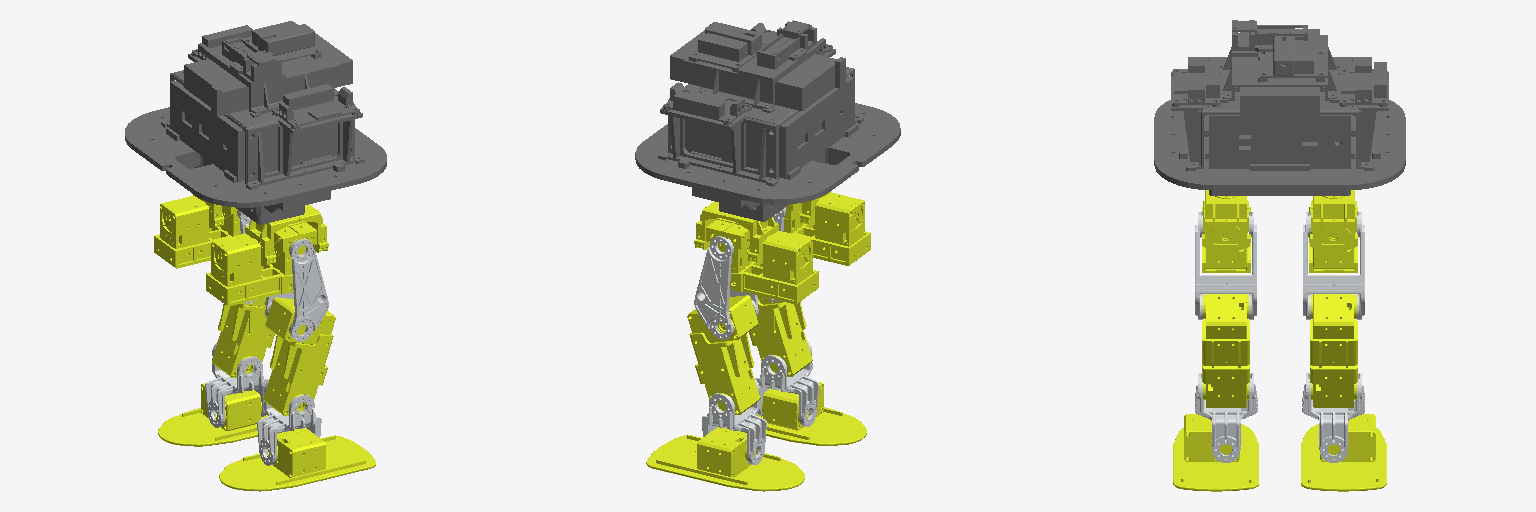
URDF robot description (exhx5_w_b_16):
<?xml version="1.0" encoding="utf-8"?>
<!-- This URDF was automatically created by SolidWorks to URDF Exporter! Originally created by [author] ([email redacted]) 
     Commit Version: 1.5.1-0-g916b5db  Build Version: 1.5.7152.31018
     For more information, please see http://wiki.ros.org/sw_urdf_exporter -->
<robot
  name="exhx5_w_b_16">
  <link
    name="body_link">
    <inertial>
      <origin
        xyz="0.00043545 0.00025536 0.10071"
        rpy="0 0 0" />
      <mass
        value="1.8238" />
      <inertia
        ixx="0.0025905"
        ixy="-5.6852E-06"
        ixz="-1.3106E-05"
        iyy="0.0024595"
        iyz="-1.261E-06"
        izz="0.0046407" />
    </inertial>
    <visual>
      <origin
        xyz="0 0 0"
        rpy="0 0 0" />
      <geometry>
        <mesh
          filename="../meshes/body_link.STL" />
      </geometry>
      <material
        name="">
        <color
          rgba="0.49804 0.49804 0.49804 1" />
      </material>
    </visual>
    <collision>
      <origin
        xyz="0 0 0"
        rpy="0 0 0" />
      <geometry>
        <mesh
          filename="../meshes/body_link.STL" />
      </geometry>
    </collision>
  </link>

  <link
    name="imu_link">
    <inertial>
      <origin
        xyz="-0.008387 1.336E-17 -0.0069463"
        rpy="0 0 0" />
      <mass
        value="0.0062931" />
      <inertia
        ixx="3.2242E-07"
        ixy="3.3527E-22"
        ixz="-6.9193E-08"
        iyy="9.2229E-07"
        iyz="-8.0392E-22"
        izz="1.1018E-06" />
    </inertial>
    <visual>
      <origin
        xyz="0 0 0"
        rpy="0 0 0" />
      <geometry>
        <mesh
          filename="../meshes/imu_link.STL" />
      </geometry>
      <material
        name="">
        <color
          rgba="0.79216 0.81961 0.93333 1" />
      </material>
    </visual>
    <collision>
      <origin
        xyz="0 0 0"
        rpy="0 0 0" />
      <geometry>
        <mesh
          filename="../meshes/imu_link.STL" />
      </geometry>
    </collision>
  </link>
  <joint
    name="imu"
    type="fixed">
    <origin
      xyz="0 0 0.0492"
      rpy="0 0 0" />
    <parent
      link="body_link" />
    <child
      link="imu_link" />
    <axis
      xyz="0 0 0" />
    <limit
      lower="-3.14"
      upper="3.14"
      effort="4"
      velocity="4" />
  </joint>
  <link
    name="l_hip_g_link">
    <inertial>
      <origin
        xyz="-0.0043797 -8.6604E-08 0.011813"
        rpy="0 0 0" />
      <mass
        value="0.061008" />
      <inertia
        ixx="1.167E-05"
        ixy="7.1767E-11"
        ixz="9.1442E-09"
        iyy="2.2342E-05"
        iyz="2.5177E-11"
        izz="2.4892E-05" />
    </inertial>
    <visual>
      <origin
        xyz="0 0 0"
        rpy="0 0 0" />
      <geometry>
        <mesh
          filename="../meshes/l_hip_g_link.STL" />
      </geometry>
      <material
        name="">
        <color
          rgba="0.9451 1 0.18431 1" />
      </material>
    </visual>
    <collision>
      <origin
        xyz="0 0 0"
        rpy="0 0 0" />
      <geometry>
        <mesh
          filename="../meshes/l_hip_g_link.STL" />
      </geometry>
    </collision>
  </link>
  <joint
    name="l_hip_g"
    type="fixed">
    <origin
      xyz=".003 0.045 0"
      rpy="0 0 0" />
    <parent
      link="body_link" />
    <child
      link="l_hip_g_link" />
    <axis
      xyz="0 0 0" />
  </joint>
  <link
    name="l_hip_roll_link">
    <inertial>
      <origin
        xyz="0.013831 0.00033457 0.025453"
        rpy="0 0 0" />
      <mass
        value="0.2969" />
      <inertia
        ixx="7.8136E-05"
        ixy="7.265E-07"
        ixz="-6.9809E-08"
        iyy="9.2183E-05"
        iyz="-5.6881E-11"
        izz="7.1034E-05" />
    </inertial>
    <visual>
      <origin
        xyz="0 0 0"
        rpy="0 0 0" />
      <geometry>
        <mesh
          filename="../meshes/l_hip_roll_link.STL" />
      </geometry>
      <material
        name="">
        <color
          rgba="0.9451 1 0.18431 1" />
      </material>
    </visual>
    <collision>
      <origin
        xyz="0 0 0"
        rpy="0 0 0" />
      <geometry>
        <mesh
          filename="../meshes/l_hip_roll_link.STL" />
      </geometry>
    </collision>
  </link>
  <joint
    name="l_hip_roll"
    type="revolute">
    <origin
      xyz="0 0 0"
      rpy="3.1416 1.5708 0" />
    <parent
      link="l_hip_g_link" />
    <child
      link="l_hip_roll_link" />
    <axis
      xyz="0 0 1" />
    <limit
      lower="-3.14"
      upper="3.14"
      effort="4"
      velocity="4" />
  </joint>
  <link
    name="l_hip_pitch_link">
    <inertial>
      <origin
        xyz="0.041225 -0.007321 -5.0713E-08"
        rpy="0 0 0" />
      <mass
        value="0.051592" />
      <inertia
        ixx="2.7959E-05"
        ixy="2.0752E-06"
        ixz="-8.0934E-11"
        iyy="4.8156E-05"
        iyz="3.6317E-11"
        izz="2.9604E-05" />
    </inertial>
    <visual>
      <origin
        xyz="0 0 0"
        rpy="0 0 0" />
      <geometry>
        <mesh
          filename="../meshes/l_hip_pitch_link.STL" />
      </geometry>
      <material
        name="">
        <color
          rgba="0.89804 0.91765 0.92941 1" />
      </material>
    </visual>
    <collision>
      <origin
        xyz="0 0 0"
        rpy="0 0 0" />
      <geometry>
        <mesh
          filename="../meshes/l_hip_pitch_link.STL" />
      </geometry>
    </collision>
  </link>
  <joint
    name="l_hip_pitch"
    type="revolute">
    <origin
      xyz="0 0 0"
      rpy="1.5708 0 0" />
    <parent
      link="l_hip_roll_link" />
    <child
      link="l_hip_pitch_link" />
    <axis
      xyz="0 0 1" />
    <limit
      lower="-3.14"
      upper="3.14"
      effort="4"
      velocity="4" />
  </joint>
  <link
    name="l_knee_link">
    <inertial>
      <origin
        xyz="0.033756 -0.0084189 -6.6115E-09"
        rpy="0 0 0" />
      <mass
        value="0.28878" />
      <inertia
        ixx="6.6724E-05"
        ixy="7.5004E-07"
        ixz="-8.4578E-07"
        iyy="6.5699E-05"
        iyz="4.1085E-07"
        izz="7.0381E-05" />
    </inertial>
    <visual>
      <origin
        xyz="0 0 0"
        rpy="0 0 0" />
      <geometry>
        <mesh
          filename="../meshes/l_knee_link.STL" />
      </geometry>
      <material
        name="">
        <color
          rgba="0.9451 1 0.18431 1" />
      </material>
    </visual>
    <collision>
      <origin
        xyz="0 0 0"
        rpy="0 0 0" />
      <geometry>
        <mesh
          filename="../meshes/l_knee_link.STL" />
      </geometry>
    </collision>
  </link>
  <joint
    name="l_knee"
    type="revolute">
    <origin
      xyz="0.075954 0 0"
      rpy="0 0 0" />
    <parent
      link="l_hip_pitch_link" />
    <child
      link="l_knee_link" />
    <axis
      xyz="0 0 1" />
    <limit
      lower="-3.14"
      upper="3.14"
      effort="4"
      velocity="4" />
  </joint>
  <link
    name="l_ank_pitch_link">
    <inertial>
      <origin
        xyz="0.022786 -7.3909E-09 -7.1981E-06"
        rpy="0 0 0" />
      <mass
        value="0.044772" />
      <inertia
        ixx="1.777E-05"
        ixy="8.555E-14"
        ixz="-3.3713E-09"
        iyy="1.7119E-05"
        iyz="1.7593E-11"
        izz="1.8661E-05" />
    </inertial>
    <visual>
      <origin
        xyz="0 0 0"
        rpy="0 0 0" />
      <geometry>
        <mesh
          filename="../meshes/l_ank_pitch_link.STL" />
      </geometry>
      <material
        name="">
        <color
          rgba="0.89804 0.91765 0.92941 1" />
      </material>
    </visual>
    <collision>
      <origin
        xyz="0 0 0"
        rpy="0 0 0" />
      <geometry>
        <mesh
          filename="../meshes/l_ank_pitch_link.STL" />
      </geometry>
    </collision>
  </link>
  <joint
    name="l_ank_pitch"
    type="revolute">
    <origin
      xyz="0.074602 0 0"
      rpy="3.1416 0 0" />
    <parent
      link="l_knee_link" />
    <child
      link="l_ank_pitch_link" />
    <axis
      xyz="0 0 1" />
    <limit
      lower="-3.14"
      upper="3.14"
      effort="4"
      velocity="4" />
  </joint>
  <link
    name="l_ank_roll_link">
    <inertial>
      <origin
        xyz="0.0047069 0.010728 0.0015299"
        rpy="0 0 0" />
      <mass
        value="0.16774" />
      <inertia
        ixx="0.00012039"
        ixy="-3.7428E-09"
        ixz="4.4069E-08"
        iyy="8.7735E-05"
        iyz="7.0469E-07"
        izz="4.7866E-05" />
    </inertial>
    <visual>
      <origin
        xyz="0 0 0"
        rpy="0 0 0" />
      <geometry>
        <mesh
          filename="../meshes/l_ank_roll_link.STL" />
      </geometry>
      <material
        name="">
        <color
          rgba="0.9451 1 0.18431 1" />
      </material>
    </visual>
    <collision>
      <origin
        xyz="0 0 0"
        rpy="0 0 0" />
      <geometry>
        <mesh
          filename="../meshes/l_ank_roll_link.STL" />
      </geometry>
    </collision>
  </link>
  <joint
    name="l_ank_roll"
    type="revolute">
    <origin
      xyz="0.0465 0 0"
      rpy="-1.5708 0 0" />
    <parent
      link="l_ank_pitch_link" />
    <child
      link="l_ank_roll_link" />
    <axis
      xyz="0 0 1" />
    <limit
      lower="-3.14"
      upper="3.14"
      effort="4"
      velocity="4" />
  </joint>
  <link
    name="r_hip_g_link">
    <inertial>
      <origin
        xyz="-0.0043797 -8.6604E-08 0.011813"
        rpy="0 0 0" />
      <mass
        value="0.061008" />
      <inertia
        ixx="1.167E-05"
        ixy="7.1767E-11"
        ixz="9.1442E-09"
        iyy="2.2342E-05"
        iyz="2.5177E-11"
        izz="2.4892E-05" />
    </inertial>
    <visual>
      <origin
        xyz="0 0 0"
        rpy="0 0 0" />
      <geometry>
        <mesh
          filename="../meshes/r_hip_g_link.STL" />
      </geometry>
      <material
        name="">
        <color
          rgba="0.9451 1 0.18431 1" />
      </material>
    </visual>
    <collision>
      <origin
        xyz="0 0 0"
        rpy="0 0 0" />
      <geometry>
        <mesh
          filename="../meshes/r_hip_g_link.STL" />
      </geometry>
    </collision>
  </link>
  <joint
    name="r_hip_g"
    type="fixed">
    <origin
      xyz=".003 -.045 0"
      rpy="0 0 0" />
    <parent
      link="body_link" />
    <child
      link="r_hip_g_link" />
    <axis
      xyz="0 0 0" />
  </joint>
  <link
    name="r_hip_roll_link">
    <inertial>
      <origin
        xyz="0.013831 0.00033457 0.025453"
        rpy="0 0 0" />
      <mass
        value="0.2969" />
      <inertia
        ixx="7.8136E-05"
        ixy="7.265E-07"
        ixz="-6.9809E-08"
        iyy="9.2183E-05"
        iyz="-5.6881E-11"
        izz="7.1034E-05" />
    </inertial>
    <visual>
      <origin
        xyz="0 0 0"
        rpy="0 0 0" />
      <geometry>
        <mesh
          filename="../meshes/r_hip_roll_link.STL" />
      </geometry>
      <material
        name="">
        <color
          rgba="0.9451 1 0.18431 1" />
      </material>
    </visual>
    <collision>
      <origin
        xyz="0 0 0"
        rpy="0 0 0" />
      <geometry>
        <mesh
          filename="../meshes/r_hip_roll_link.STL" />
      </geometry>
    </collision>
  </link>
  <joint
    name="r_hip_roll"
    type="revolute">
    <origin
      xyz="0 0 0"
      rpy="3.1416 1.5708 0" />
    <parent
      link="r_hip_g_link" />
    <child
      link="r_hip_roll_link" />
    <axis
      xyz="0 0 1" />
    <limit
      lower="-3.14"
      upper="3.14"
      effort="4"
      velocity="4" />
  </joint>
  <link
    name="r_hip_pitch_link">
    <inertial>
      <origin
        xyz="0.041225 0.007321 5.0713E-08"
        rpy="0 0 0" />
      <mass
        value="0.051592" />
      <inertia
        ixx="2.7959E-05"
        ixy="-2.0752E-06"
        ixz="8.0934E-11"
        iyy="4.8156E-05"
        iyz="3.6317E-11"
        izz="2.9604E-05" />
    </inertial>
    <visual>
      <origin
        xyz="0 0 0"
        rpy="0 0 0" />
      <geometry>
        <mesh
          filename="../meshes/r_hip_pitch_link.STL" />
      </geometry>
      <material
        name="">
        <color
          rgba="0.89804 0.91765 0.92941 1" />
      </material>
    </visual>
    <collision>
      <origin
        xyz="0 0 0"
        rpy="0 0 0" />
      <geometry>
        <mesh
          filename="../meshes/r_hip_pitch_link.STL" />
      </geometry>
    </collision>
  </link>
  <joint
    name="r_hip_pitch"
    type="revolute">
    <origin
      xyz="0 0 0"
      rpy="-1.5708 0 0" />
    <parent
      link="r_hip_roll_link" />
    <child
      link="r_hip_pitch_link" />
    <axis
      xyz="0 0 1" />
    <limit
      lower="-3.14"
      upper="3.14"
      effort="4"
      velocity="4" />
  </joint>
  <link
    name="r_knee_link">
    <inertial>
      <origin
        xyz="0.033757 0.0084176 6.6115E-09"
        rpy="0 0 0" />
      <mass
        value="0.28878" />
      <inertia
        ixx="6.6724E-05"
        ixy="-7.5008E-07"
        ixz="8.458E-07"
        iyy="6.5699E-05"
        iyz="4.1081E-07"
        izz="7.0381E-05" />
    </inertial>
    <visual>
      <origin
        xyz="0 0 0"
        rpy="0 0 0" />
      <geometry>
        <mesh
          filename="../meshes/r_knee_link.STL" />
      </geometry>
      <material
        name="">
        <color
          rgba="0.9451 1 0.18431 1" />
      </material>
    </visual>
    <collision>
      <origin
        xyz="0 0 0"
        rpy="0 0 0" />
      <geometry>
        <mesh
          filename="../meshes/r_knee_link.STL" />
      </geometry>
    </collision>
  </link>
  <joint
    name="r_knee"
    type="revolute">
    <origin
      xyz="0.075954 0 0"
      rpy="0 0 0" />
    <parent
      link="r_hip_pitch_link" />
    <child
      link="r_knee_link" />
    <axis
      xyz="0 0 1" />
    <limit
      lower="-3.14"
      upper="3.14"
      effort="4"
      velocity="4" />
  </joint>
  <link
    name="r_ank_pitch_link">
    <inertial>
      <origin
        xyz="0.025786 -7.3887E-09 -7.1981E-06"
        rpy="0 0 0" />
      <mass
        value="0.044772" />
      <inertia
        ixx="1.777E-05"
        ixy="8.5434E-14"
        ixz="-3.3713E-09"
        iyy="1.7119E-05"
        iyz="1.7592E-11"
        izz="1.8661E-05" />
    </inertial>
    <visual>
      <origin
        xyz="0 0 0"
        rpy="0 0 0" />
      <geometry>
        <mesh
          filename="../meshes/r_ank_pitch_link.STL" />
      </geometry>
      <material
        name="">
        <color
          rgba="0.89804 0.91765 0.92941 1" />
      </material>
    </visual>
    <collision>
      <origin
        xyz="0 0 0"
        rpy="0 0 0" />
      <geometry>
        <mesh
          filename="../meshes/r_ank_pitch_link.STL" />
      </geometry>
    </collision>
  </link>
  <joint
    name="r_ank_pitch"
    type="revolute">
    <origin
      xyz="0.071602 0 0"
      rpy="3.1416 0 0" />
    <parent
      link="r_knee_link" />
    <child
      link="r_ank_pitch_link" />
    <axis
      xyz="0 0 1" />
    <limit
      lower="-3.14"
      upper="3.14"
      effort="4"
      velocity="4" />
  </joint>
  <link
    name="r_ank_roll_link">
    <inertial>
      <origin
        xyz="0.0077069 -0.010728 0.0015299"
        rpy="0 0 0" />
      <mass
        value="0.16774" />
      <inertia
        ixx="0.00012039"
        ixy="3.743E-09"
        ixz="4.407E-08"
        iyy="8.7735E-05"
        iyz="-7.0467E-07"
        izz="4.7866E-05" />
    </inertial>
    <visual>
      <origin
        xyz="0 0 0"
        rpy="0 0 0" />
      <geometry>
        <mesh
          filename="../meshes/r_ank_roll_link.STL" />
      </geometry>
      <material
        name="">
        <color
          rgba="0.9451 1 0.18431 1" />
      </material>
    </visual>
    <collision>
      <origin
        xyz="0 0 0"
        rpy="0 0 0" />
      <geometry>
        <mesh
          filename="../meshes/r_ank_roll_link.STL" />
      </geometry>
    </collision>
  </link>
  <joint
    name="r_ank_roll"
    type="revolute">
    <origin
      xyz="0.0465 0 0"
      rpy="1.5708 0 0" />
    <parent
      link="r_ank_pitch_link" />
    <child
      link="r_ank_roll_link" />
    <axis
      xyz="0 0 1" />
    <limit
      lower="-3.14"
      upper="3.14"
      effort="4"
      velocity="4" />
  </joint>
  <transmission name="r_hip_roll_tran">
    <type>transmission_interface/SimpleTransmission</type>
    <joint name="r_hip_roll">
      <hardwareInterface>hardware_interface/EffortJointInterface</hardwareInterface>
    </joint>
    <actuator name="r_hip_roll_motor">
      <hardwareInterface>hardware_interface/EffortJointInterface</hardwareInterface>
      <mechanicalReduction>1</mechanicalReduction>
    </actuator>
  </transmission>
  <transmission name="r_hip_pitch_tran">
    <type>transmission_interface/SimpleTransmission</type>
    <joint name="r_hip_pitch">
      <hardwareInterface>hardware_interface/EffortJointInterface</hardwareInterface>
    </joint>
    <actuator name="r_hip_pitch_motor">
      <hardwareInterface>hardware_interface/EffortJointInterface</hardwareInterface>
      <mechanicalReduction>1</mechanicalReduction>
    </actuator>
  </transmission>
  <transmission name="r_knee_tran">
    <type>transmission_interface/SimpleTransmission</type>
    <joint name="r_knee">
      <hardwareInterface>hardware_interface/EffortJointInterface</hardwareInterface>
    </joint>
    <actuator name="r_knee_motor">
      <hardwareInterface>hardware_interface/EffortJointInterface</hardwareInterface>
      <mechanicalReduction>1</mechanicalReduction>
    </actuator>
  </transmission>
  <transmission name="r_ank_pitch_tran">
    <type>transmission_interface/SimpleTransmission</type>
    <joint name="r_ank_pitch">
      <hardwareInterface>hardware_interface/EffortJointInterface</hardwareInterface>
    </joint>
    <actuator name="r_ank_pitch_motor">
      <hardwareInterface>hardware_interface/EffortJointInterface</hardwareInterface>
      <mechanicalReduction>1</mechanicalReduction>
    </actuator>
  </transmission>
  <transmission name="r_ank_roll_tran">
    <type>transmission_interface/SimpleTransmission</type>
    <joint name="r_ank_roll">
      <hardwareInterface>hardware_interface/EffortJointInterface</hardwareInterface>
    </joint>
    <actuator name="r_ank_roll_motor">
      <hardwareInterface>hardware_interface/EffortJointInterface</hardwareInterface>
      <mechanicalReduction>1</mechanicalReduction>
    </actuator>
  </transmission>
  <transmission name="l_hip_roll_tran">
    <type>transmission_interface/SimpleTransmission</type>
    <joint name="l_hip_roll">
      <hardwareInterface>hardware_interface/EffortJointInterface</hardwareInterface>
    </joint>
    <actuator name="l_hip_roll_motor">
      <hardwareInterface>hardware_interface/EffortJointInterface</hardwareInterface>
      <mechanicalReduction>1</mechanicalReduction>
    </actuator>
  </transmission>
  <transmission name="l_hip_pitch_tran">
    <type>transmission_interface/SimpleTransmission</type>
    <joint name="l_hip_pitch">
      <hardwareInterface>hardware_interface/EffortJointInterface</hardwareInterface>
    </joint>
    <actuator name="l_hip_pitch_motor">
      <hardwareInterface>hardware_interface/EffortJointInterface</hardwareInterface>
      <mechanicalReduction>1</mechanicalReduction>
    </actuator>
  </transmission>
  <transmission name="l_knee_tran">
    <type>transmission_interface/SimpleTransmission</type>
    <joint name="l_knee">
      <hardwareInterface>hardware_interface/EffortJointInterface</hardwareInterface>
    </joint>
    <actuator name="l_knee_motor">
      <hardwareInterface>hardware_interface/EffortJointInterface</hardwareInterface>
      <mechanicalReduction>1</mechanicalReduction>
    </actuator>
  </transmission>
  <transmission name="l_ank_pitch_tran">
    <type>transmission_interface/SimpleTransmission</type>
    <joint name="l_ank_pitch">
      <hardwareInterface>hardware_interface/EffortJointInterface</hardwareInterface>
    </joint>
    <actuator name="l_ank_pitch_motor">
      <hardwareInterface>hardware_interface/EffortJointInterface</hardwareInterface>
      <mechanicalReduction>1</mechanicalReduction>
    </actuator>
  </transmission>
  <transmission name="l_ank_roll_tran">
    <type>transmission_interface/SimpleTransmission</type>
    <joint name="l_ank_roll">
      <hardwareInterface>hardware_interface/EffortJointInterface</hardwareInterface>
    </joint>
    <actuator name="l_ank_roll_motor">
      <hardwareInterface>hardware_interface/EffortJointInterface</hardwareInterface>
      <mechanicalReduction>1</mechanicalReduction>
    </actuator>
  </transmission>
</robot>

--- Render facts (derived) ---
The picture shows the robot from 3 angles, left to right: view 1: azimuth 30°, elevation 25°; view 2: azimuth 150°, elevation 25°; view 3: azimuth 270°, elevation 25°; orthographic projection.
Model exhx5_w_b_16 with 14 links and 13 joints (10 revolute, 3 fixed), rooted at body_link, posed every joint at zero.
Links seen in each view (by area): view 1: body_link, r_ank_roll_link, r_hip_roll_link, r_knee_link, l_hip_roll_link, l_ank_roll_link, l_knee_link, r_hip_pitch_link, r_ank_pitch_link, l_ank_pitch_link, r_hip_g_link; view 2: body_link, l_ank_roll_link, l_hip_roll_link, l_knee_link, r_hip_roll_link, r_ank_roll_link, r_knee_link, l_hip_pitch_link, l_ank_pitch_link, r_ank_pitch_link, l_hip_g_link; view 3: body_link, l_knee_link, r_knee_link, l_ank_roll_link, r_ank_roll_link, l_hip_g_link, r_hip_g_link, l_hip_pitch_link, r_hip_pitch_link, r_ank_pitch_link, l_ank_pitch_link, l_hip_roll_link (+1 smaller).
Link boxes in pixels (x1,y1,x2,y2): body_link: (125,21,386,224); r_ank_roll_link: (219,427,375,491); r_hip_roll_link: (206,221,316,306); r_knee_link: (263,297,335,415); l_hip_roll_link: (154,196,246,268); l_ank_roll_link: (158,383,267,446); l_knee_link: (212,297,274,377); r_hip_pitch_link: (265,238,328,341); r_ank_pitch_link: (257,380,321,465); l_ank_pitch_link: (205,341,267,427); r_hip_g_link: (245,205,328,265); body_link: (635,20,900,221); l_ank_roll_link: (646,427,804,491); l_hip_roll_link: (706,218,818,304); l_knee_link: (687,295,760,414); r_hip_roll_link: (777,192,870,265); r_ank_roll_link: (756,382,866,445); r_knee_link: (749,295,812,376); l_hip_pitch_link: (694,236,758,339); l_ank_pitch_link: (702,378,766,464); r_ank_pitch_link: (755,339,818,426); l_hip_g_link: (694,201,778,263); body_link: (1154,20,1405,195); l_knee_link: (1310,294,1357,407); r_knee_link: (1202,294,1249,407); l_ank_roll_link: (1301,414,1386,491); r_ank_roll_link: (1173,414,1258,491); l_hip_g_link: (1309,190,1357,247); r_hip_g_link: (1202,190,1250,247); l_hip_pitch_link: (1303,212,1364,319); r_hip_pitch_link: (1195,212,1256,319); r_ank_pitch_link: (1195,373,1257,462); l_ank_pitch_link: (1302,373,1364,462); l_hip_roll_link: (1309,200,1357,272).
Size in the robot's own frame: 0.185 by 0.21 by 0.3893 metres.
Meshes: 14 distinct files referenced, 14 mesh visuals loaded (14 binary STL).